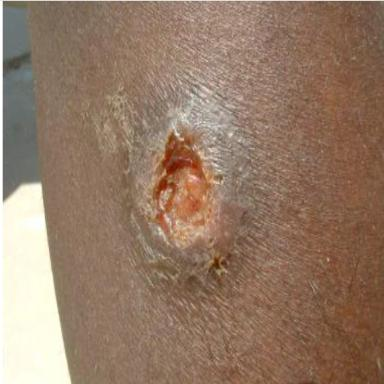Leishmanios: (126, 80, 245, 281)
